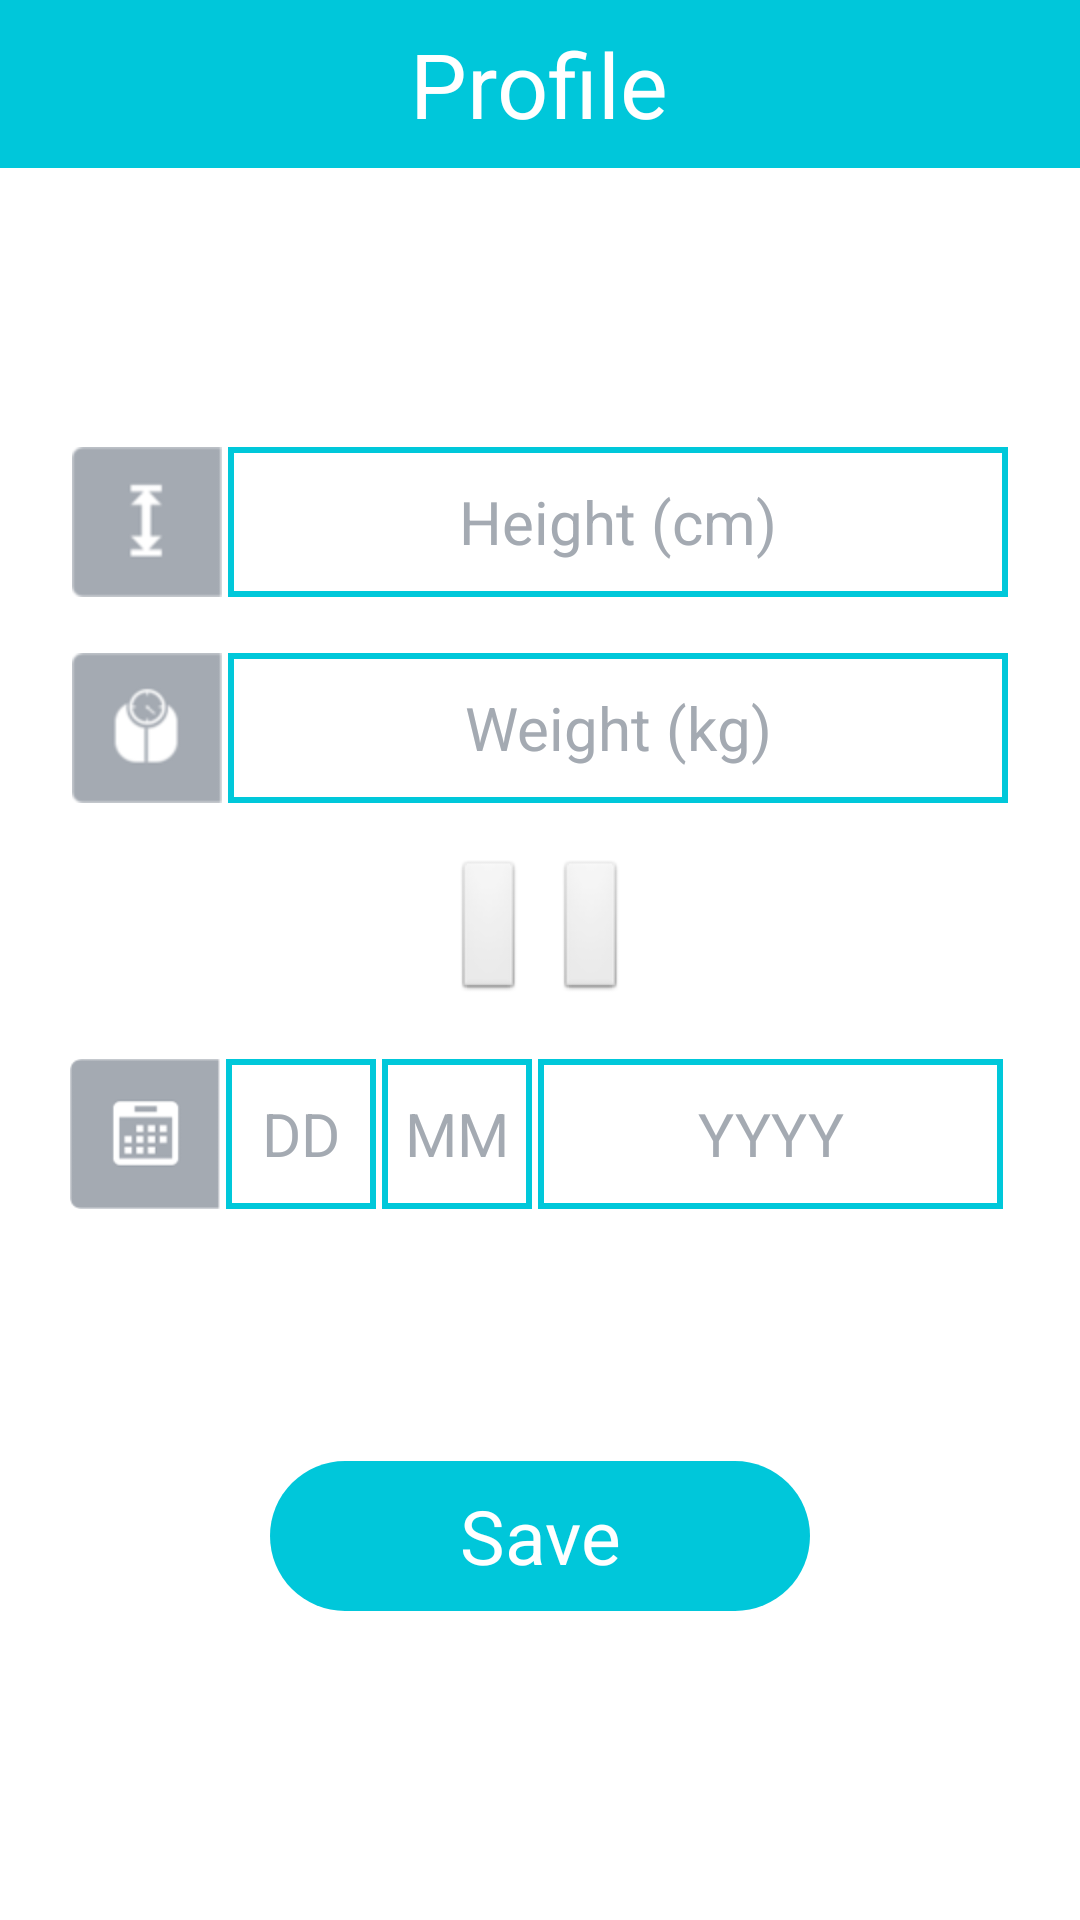

Screen size 1080px x 1920px. Icon name, then its center in pixels as [x,y]:
date: [145,1134]
